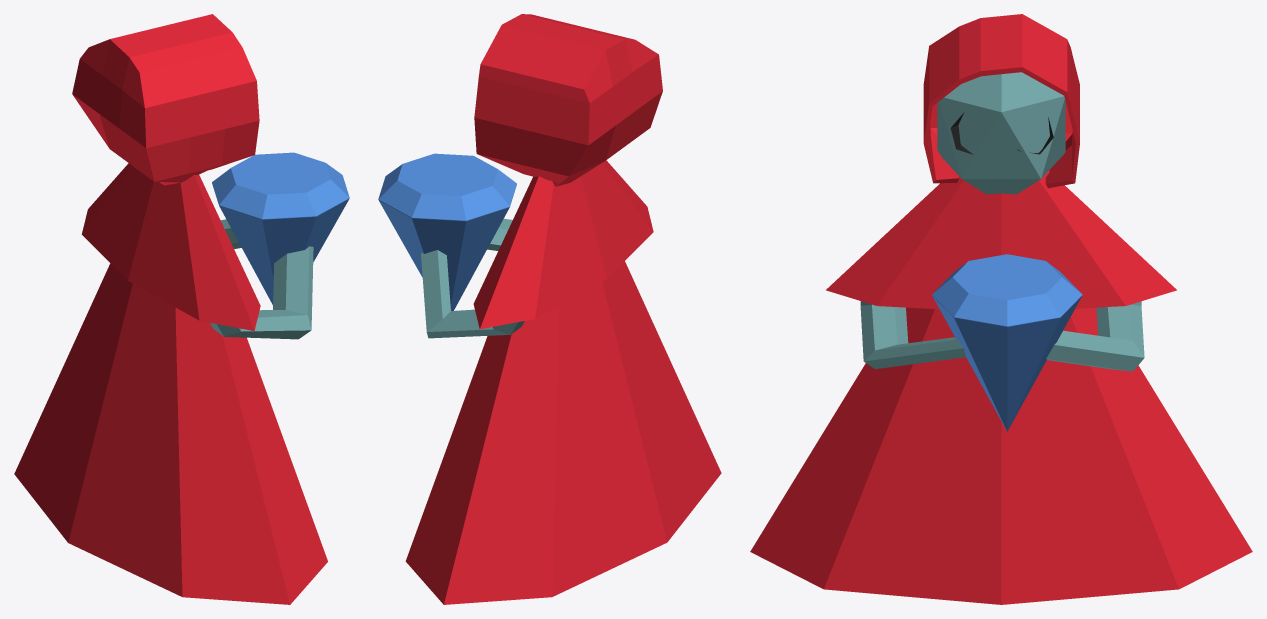
The model's file is Cultist.glb.
3 renders of one model, left to right at view 1: azimuth 30°, elevation 25°; view 2: azimuth 150°, elevation 25°; view 3: azimuth 270°, elevation 25°, orthographic. The views are drawn at different scales.
Parts seen in each view (by area): view 1: Cultist; view 2: Cultist; view 3: Cultist.
Boxes of the visible parts, <box> form: Cultist: <box>14,14,349,604</box>; Cultist: <box>378,14,721,604</box>; Cultist: <box>750,14,1252,604</box>.
Bounding box in the file's own units: 0.8228 × 1.37 × 1.22.
